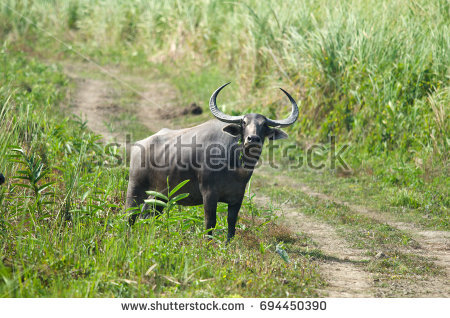buffalo: (122, 78, 303, 238)
